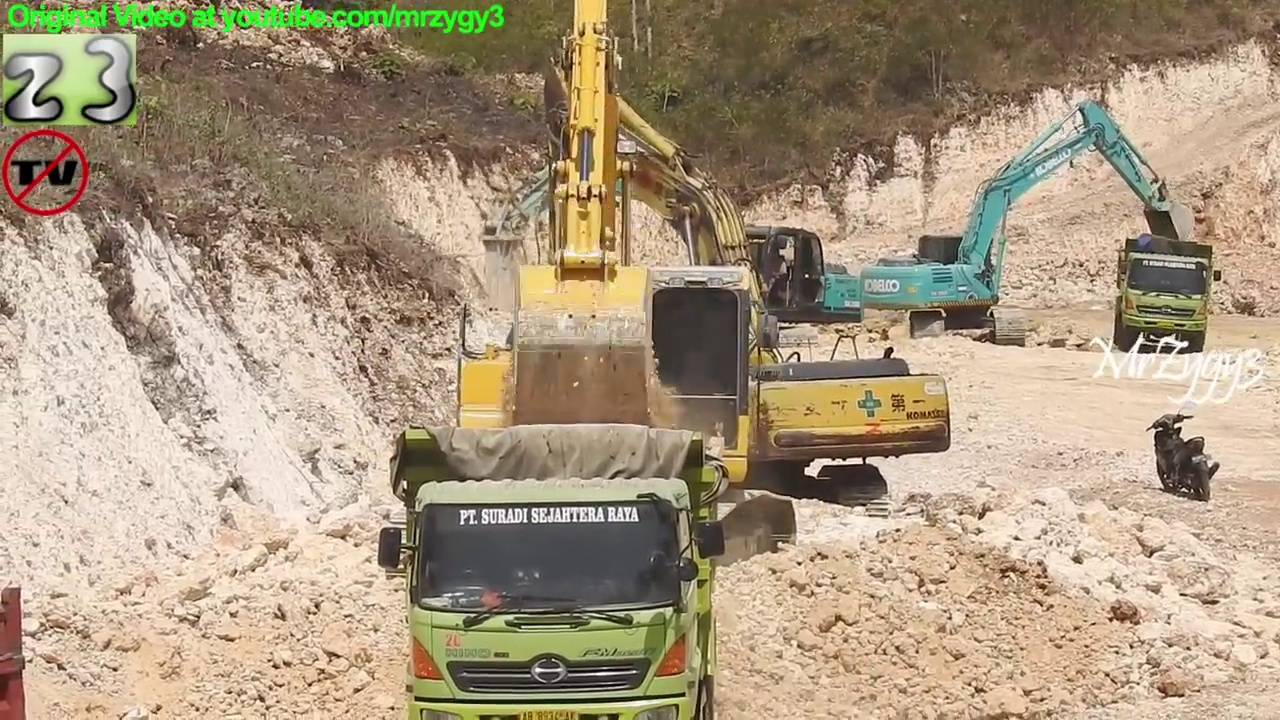excavator: (368, 1, 806, 593), (512, 16, 960, 534), (465, 120, 868, 358), (860, 93, 1199, 352)
truck: (372, 417, 738, 720), (1106, 230, 1229, 359), (1, 582, 33, 720)
